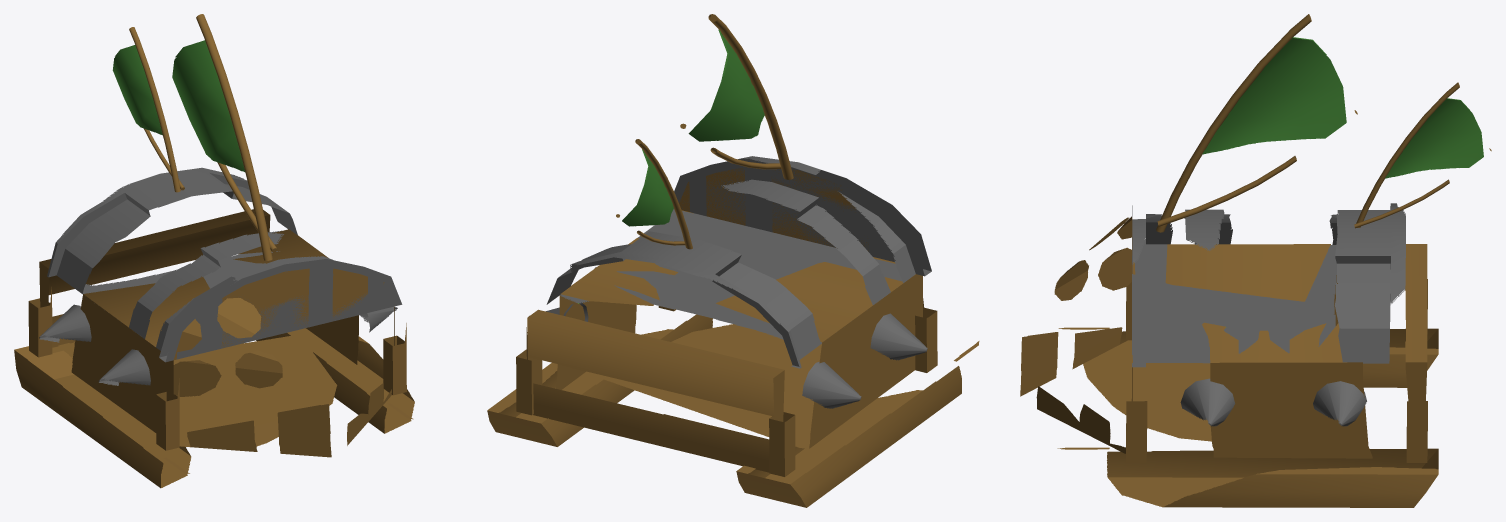
File: Tank.fbx
3 views of the same model, side by side, from view 1: azimuth 30°, elevation 25°; view 2: azimuth 150°, elevation 25°; view 3: azimuth 270°, elevation 25° (orthographic). The views are drawn at different scales.
Visible parts, largest first — view 1: Tank; view 2: Tank; view 3: Tank.
Part boxes in pixels (x1=…): Tank: x1=14, y1=14, x2=414, y2=488; Tank: x1=487, y1=14, x2=979, y2=507; Tank: x1=1020, y1=14, x2=1491, y2=507.
Size of the model in its own units: 2.33 by 2.96 by 2.81.
